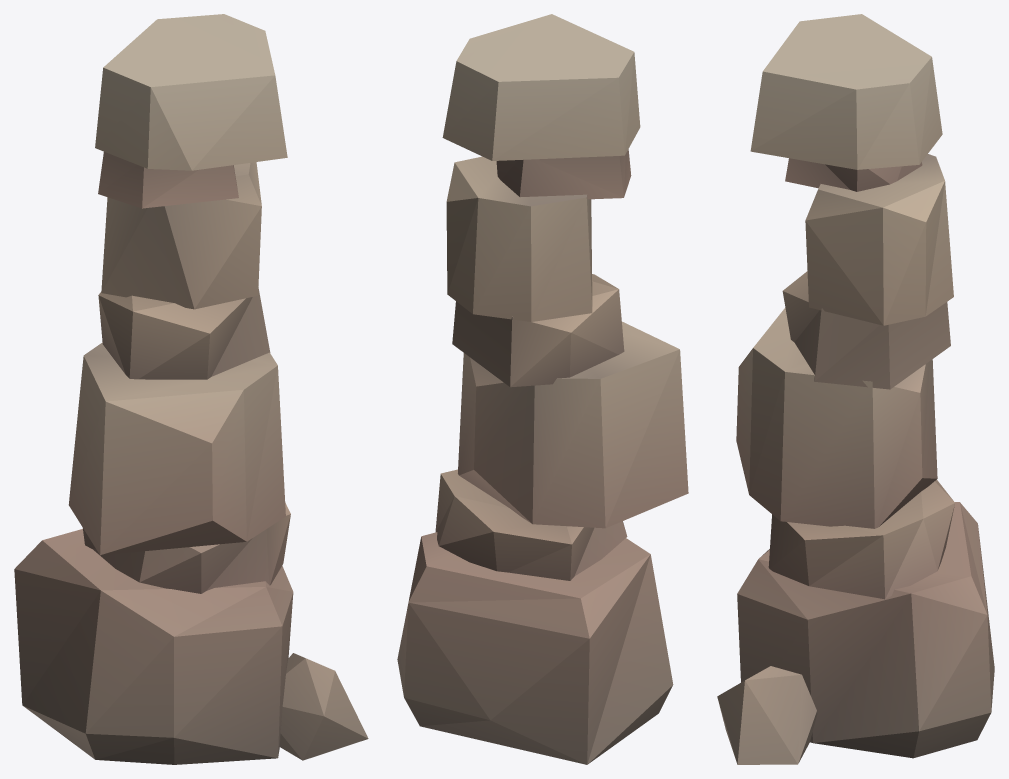
File: pillar.lod1.glb
3 renders of one model, left to right at view 1: azimuth 30°, elevation 25°; view 2: azimuth 150°, elevation 25°; view 3: azimuth 270°, elevation 25°, orthographic. The views are drawn at different scales.
Bounding box in the file's own units: 1.59 × 4.24 × 1.63.
